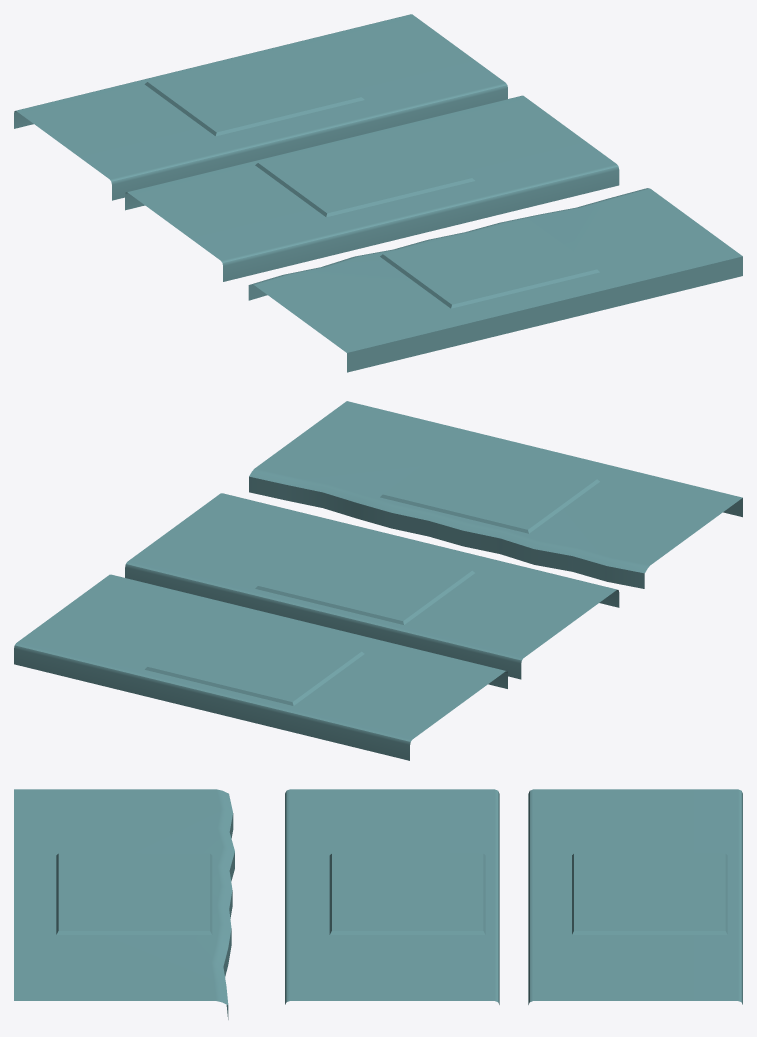
The model's file is sm_tables.fbx.
3 views of the same model, one above another, from view 1: azimuth 30°, elevation 25°; view 2: azimuth 150°, elevation 25°; view 3: azimuth 270°, elevation 25° (orthographic). The views are drawn at different scales.
Visible parts, largest first — view 1: SM_TABLE_IA, SM_TABLE_ROCK, SM_TABLE_H; view 2: SM_TABLE_ROCK, SM_TABLE_H, SM_TABLE_IA; view 3: SM_TABLE_ROCK, SM_TABLE_H, SM_TABLE_IA.
Boxes of the visible parts, x1,y1,x2,y2 form: SM_TABLE_IA: (125, 95, 619, 281); SM_TABLE_ROCK: (248, 188, 742, 372); SM_TABLE_H: (14, 14, 507, 200); SM_TABLE_ROCK: (249, 401, 742, 588); SM_TABLE_H: (14, 574, 507, 760); SM_TABLE_IA: (125, 493, 619, 679); SM_TABLE_ROCK: (14, 789, 234, 1019); SM_TABLE_H: (528, 789, 742, 1004); SM_TABLE_IA: (285, 789, 499, 1004).
Size of the model in its own units: 182 by 9.82 by 265.
